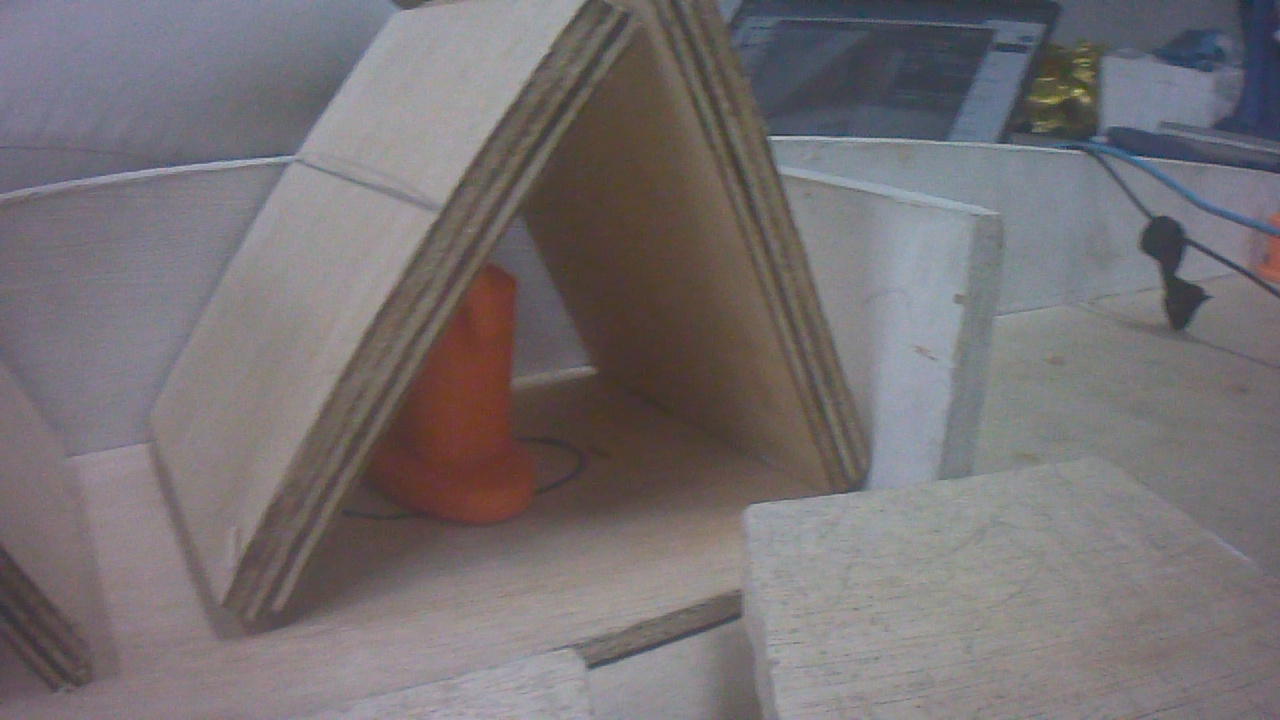real: (350, 177, 577, 533)
